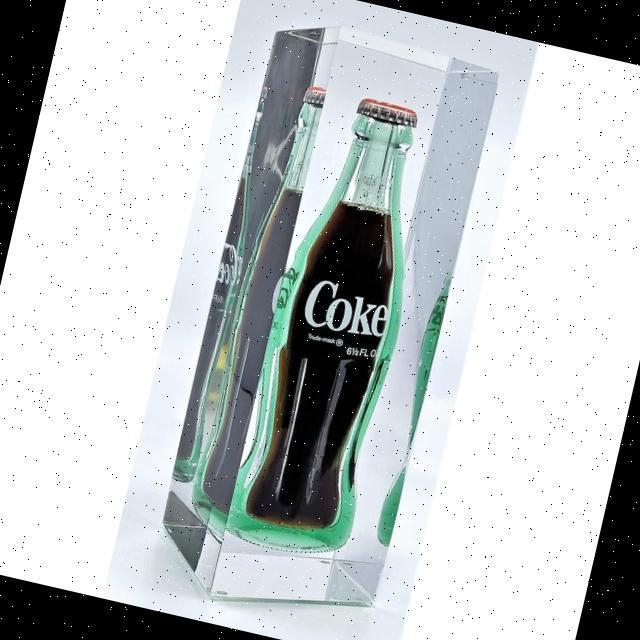coca-cola: (225, 79, 456, 574)
